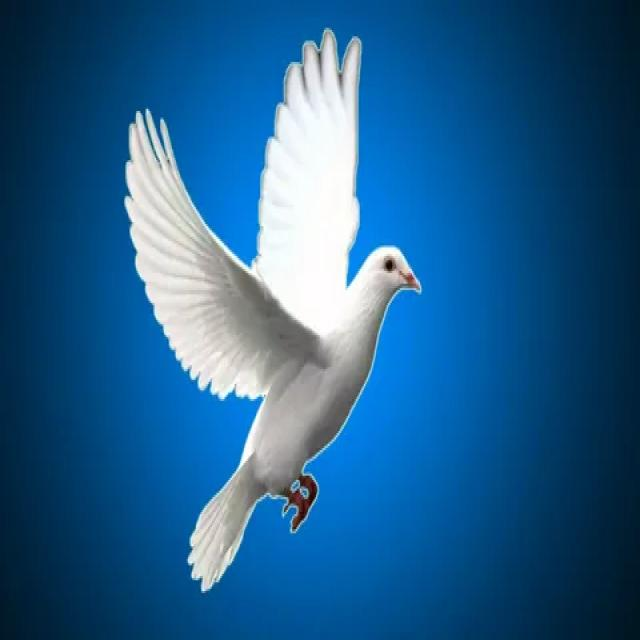pigeon: (113, 29, 430, 597)
